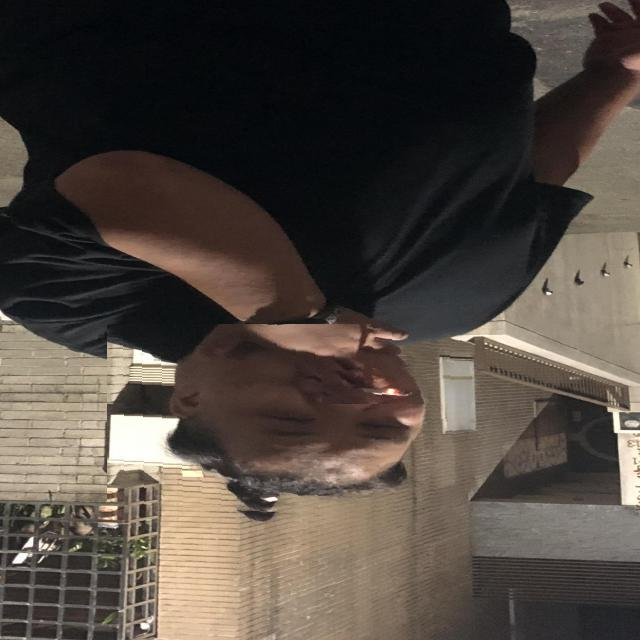cigarette: (322, 366, 440, 404)
